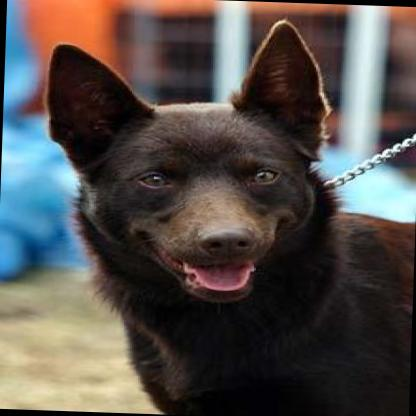kelpie: (34, 8, 416, 416)
